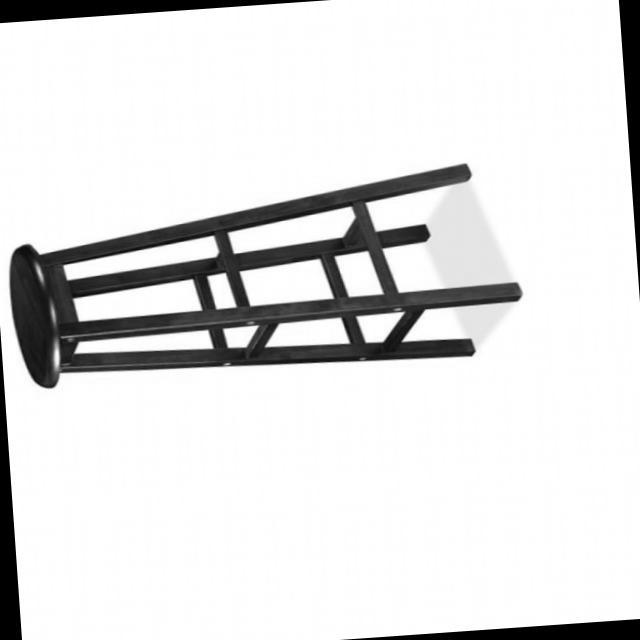chair: (0, 147, 529, 391)
